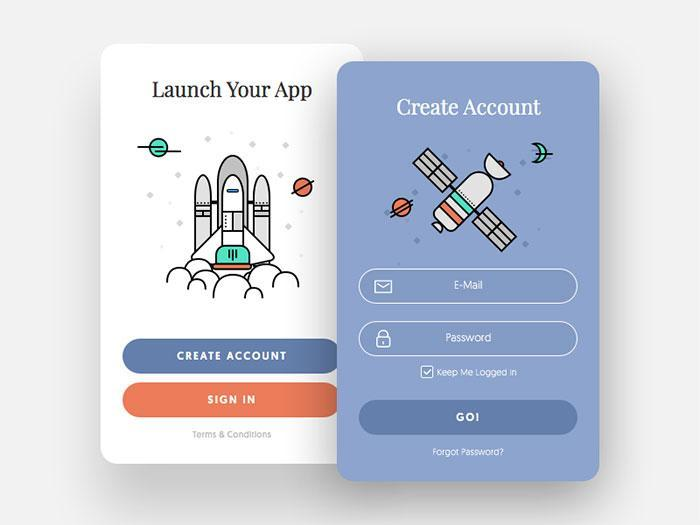button: (123, 339, 337, 375), (124, 383, 338, 419), (360, 402, 579, 435)
checkbox: (422, 366, 434, 379)
icon: (375, 327, 394, 352), (374, 279, 394, 297)
input: (360, 269, 579, 307), (358, 322, 579, 357)
label: (143, 77, 321, 106), (394, 98, 549, 118), (440, 370, 520, 379)
